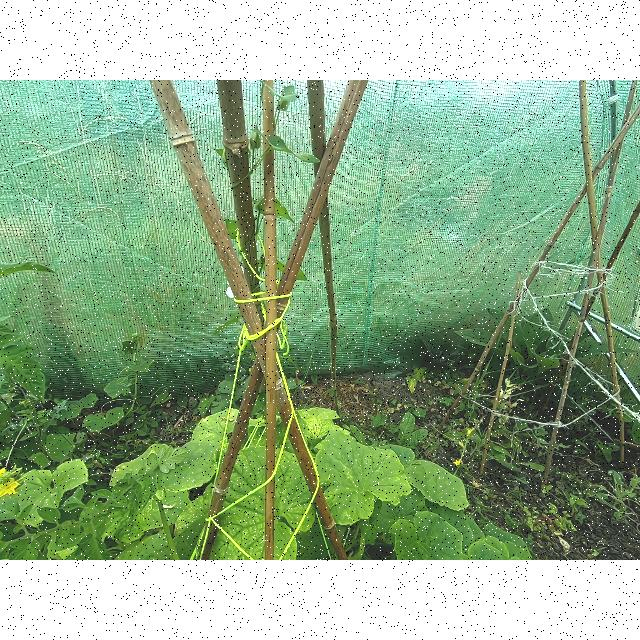Flowers: (0, 467, 22, 497), (452, 457, 463, 467), (465, 429, 473, 437), (458, 441, 464, 449)
